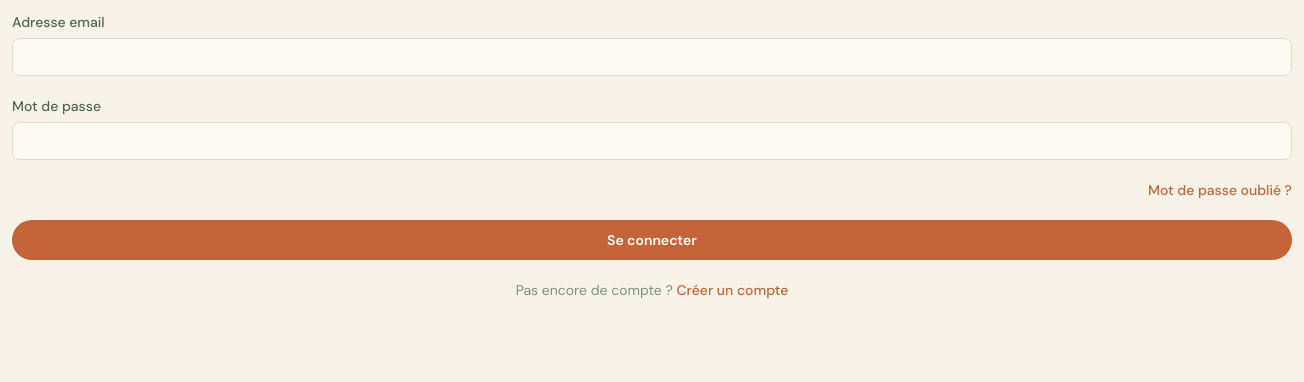
Test case: LoginForm › shows a French error message when login() throws an ApiError
The image size is (1304, 382).
Type "u@test.com" into the field labelled "Adresse email" at coordinates (652, 57), box [12, 38, 1292, 76]
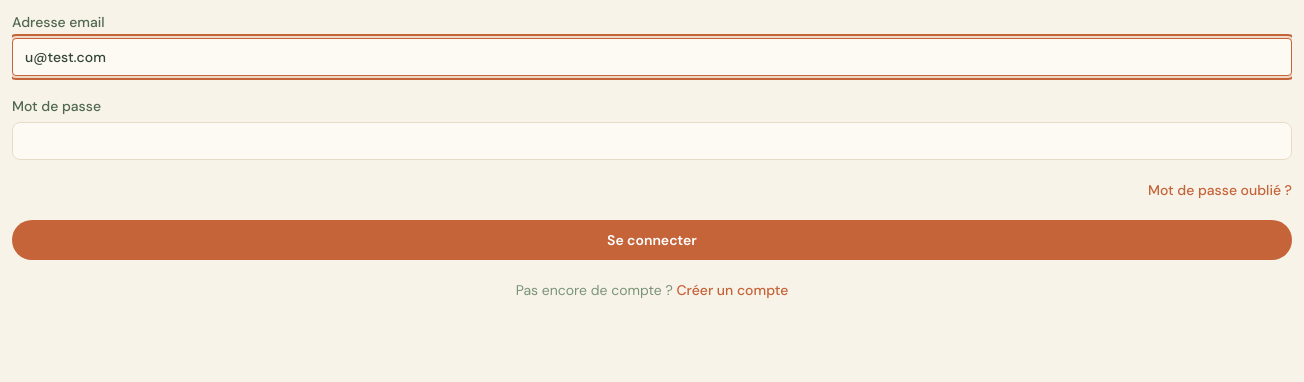
Type "wrongpassword" into the password field labelled "Mot de passe" at coordinates (652, 141), box [12, 122, 1292, 160]
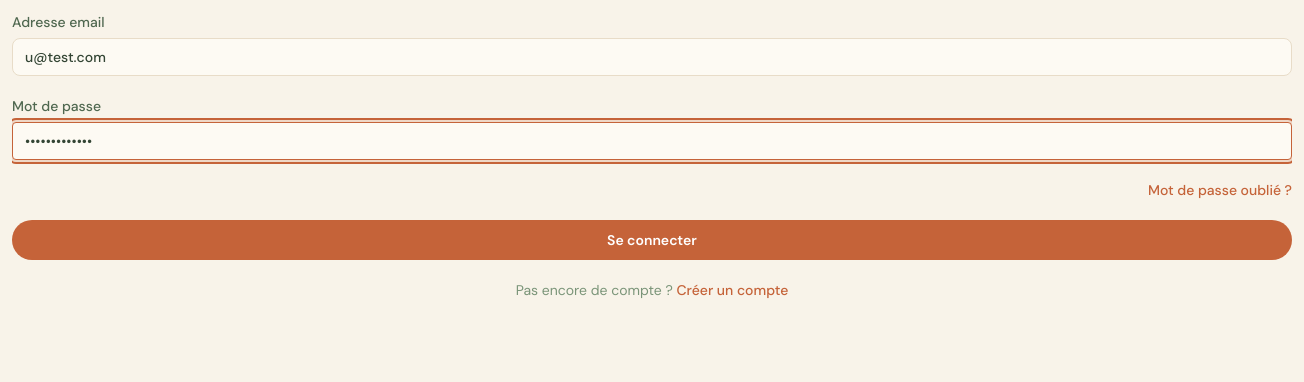
Click the button "Se connecter" at coordinates (652, 240), box [12, 220, 1292, 260]
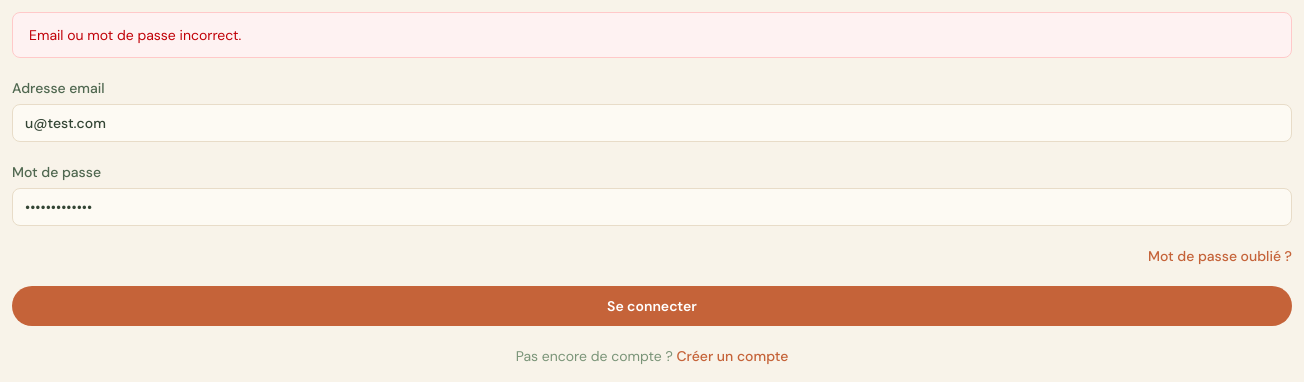
Check: the text "Email ou mot de passe incorrect." is shown, box [12, 12, 1292, 58]
